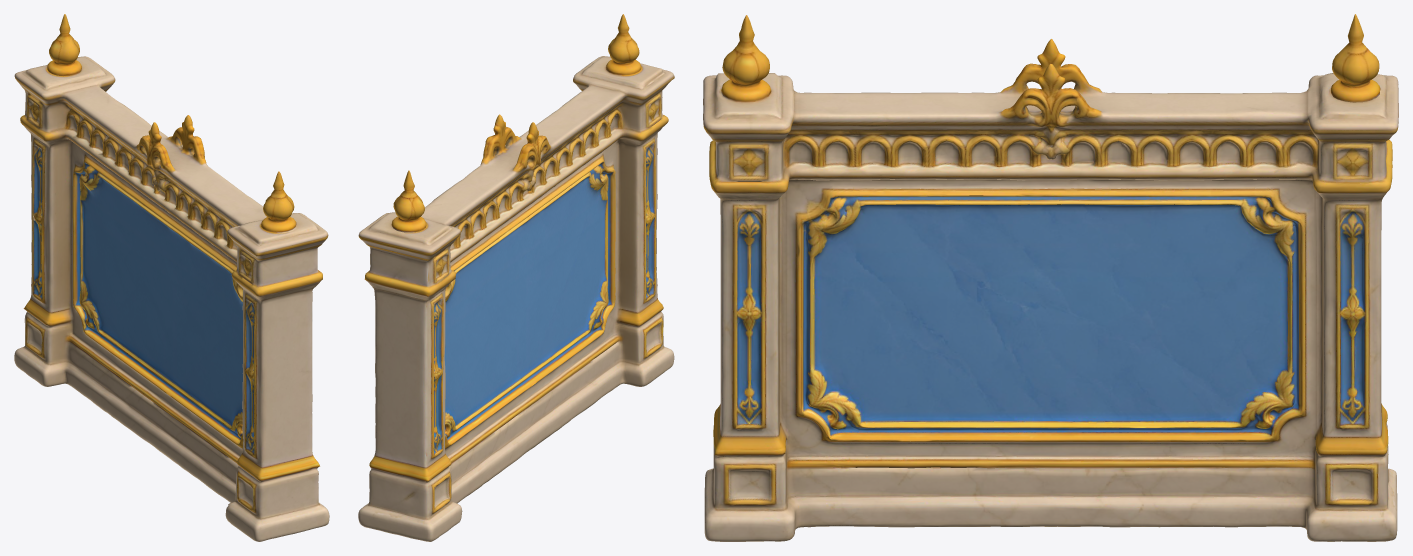
3 views of the same model, side by side, from view 1: azimuth 30°, elevation 25°; view 2: azimuth 150°, elevation 25°; view 3: azimuth 270°, elevation 25° (orthographic). The views are drawn at different scales.
Parts seen in each view (by area): view 1: tripo_node_8abfe474-b20b-4107-8b5b-04973dcaf823; view 2: tripo_node_8abfe474-b20b-4107-8b5b-04973dcaf823; view 3: tripo_node_8abfe474-b20b-4107-8b5b-04973dcaf823.
Part boxes in pixels (box(x1,y1,x2,y2)): tripo_node_8abfe474-b20b-4107-8b5b-04973dcaf823: box(14, 14, 329, 541); tripo_node_8abfe474-b20b-4107-8b5b-04973dcaf823: box(358, 14, 674, 541); tripo_node_8abfe474-b20b-4107-8b5b-04973dcaf823: box(703, 14, 1398, 541).
Bounding box in the file's own units: 0.173 × 0.781 × 0.9784.
1 material, 1 textured.
